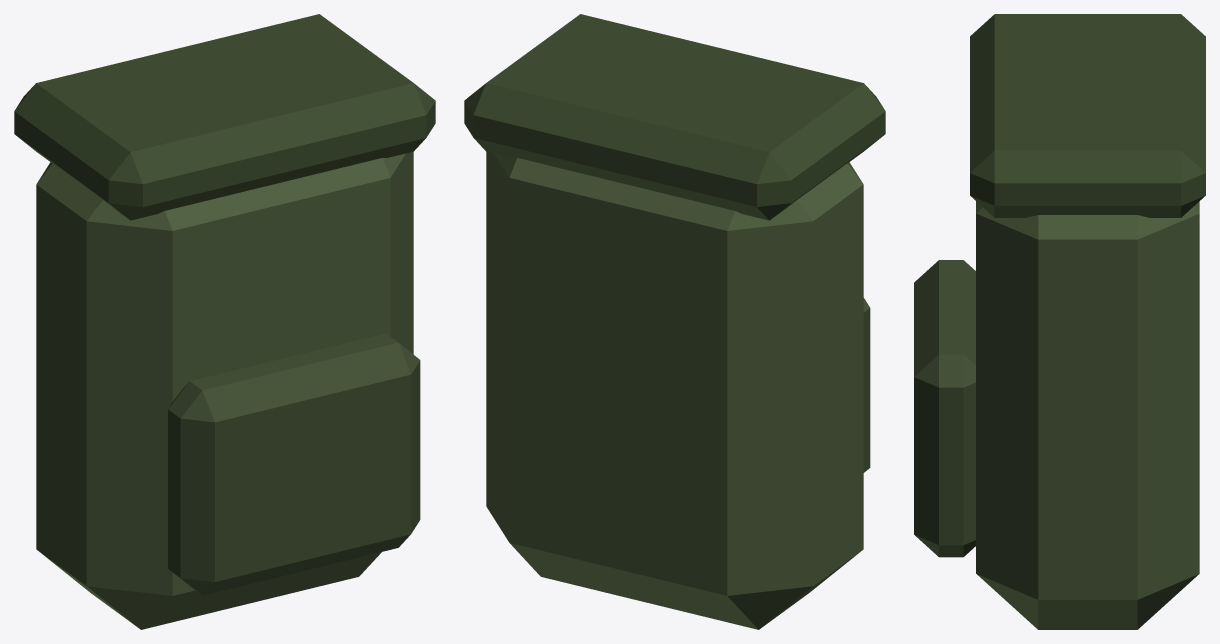
File: backpack.glb
3 renders of one model, left to right at view 1: azimuth 30°, elevation 25°; view 2: azimuth 150°, elevation 25°; view 3: azimuth 270°, elevation 25°, orthographic.
Parts seen in each view (by area): view 1: Item; view 2: Item; view 3: Item.
Boxes of the visible parts, x1,y1,x2,y2 form: Item: [14, 14, 435, 629]; Item: [464, 14, 885, 629]; Item: [914, 14, 1205, 629].
Bounding box in the file's own units: 0.3 × 0.44 × 0.235.
